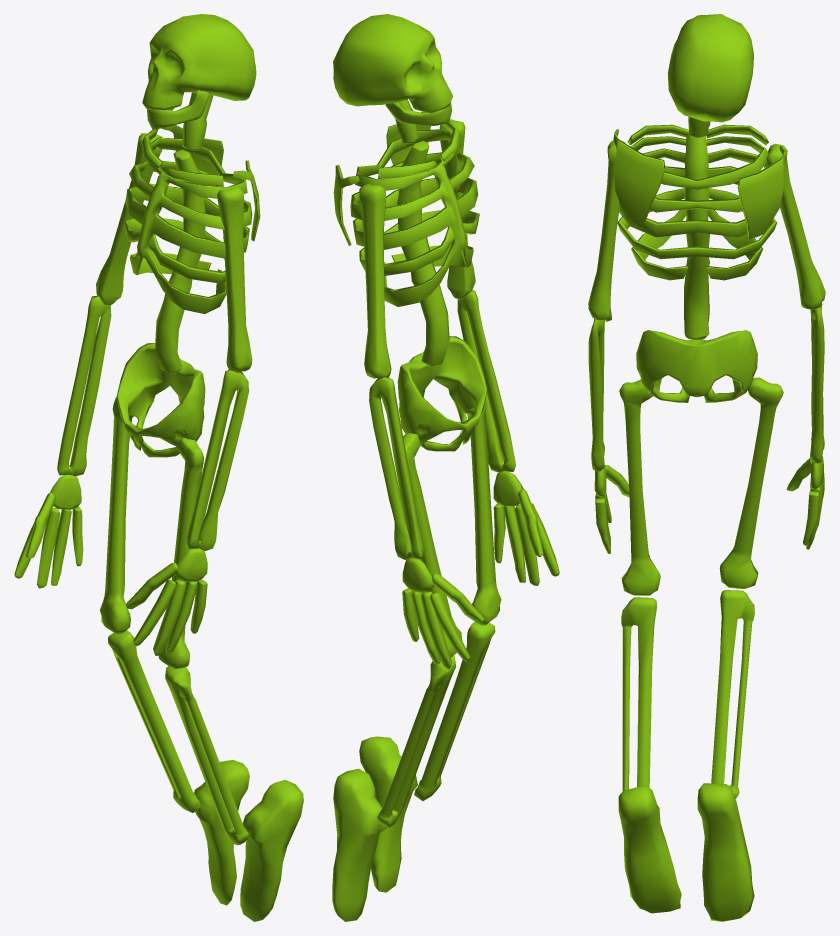
Rendered from Gallows_02C_Lod0.fbx.
3 renders of one model, left to right at view 1: azimuth 30°, elevation 25°; view 2: azimuth 150°, elevation 25°; view 3: azimuth 270°, elevation 25°, orthographic.
Visible parts, largest first — view 1: Gallows_02C_Lod0; view 2: Gallows_02C_Lod0; view 3: Gallows_02C_Lod0.
Boxes of the visible parts, x1,y1,x2,y2 form: Gallows_02C_Lod0: [14, 14, 303, 921]; Gallows_02C_Lod0: [332, 14, 559, 921]; Gallows_02C_Lod0: [588, 14, 825, 921].
Size of the model in its own units: 36.47 by 158 by 38.38.
